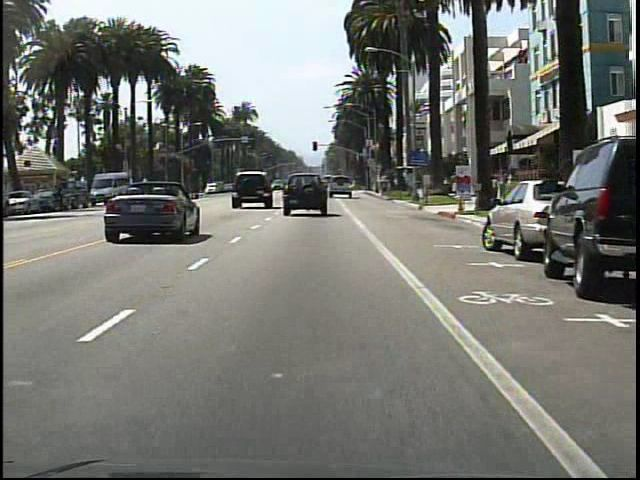person: (53, 178, 70, 215)
